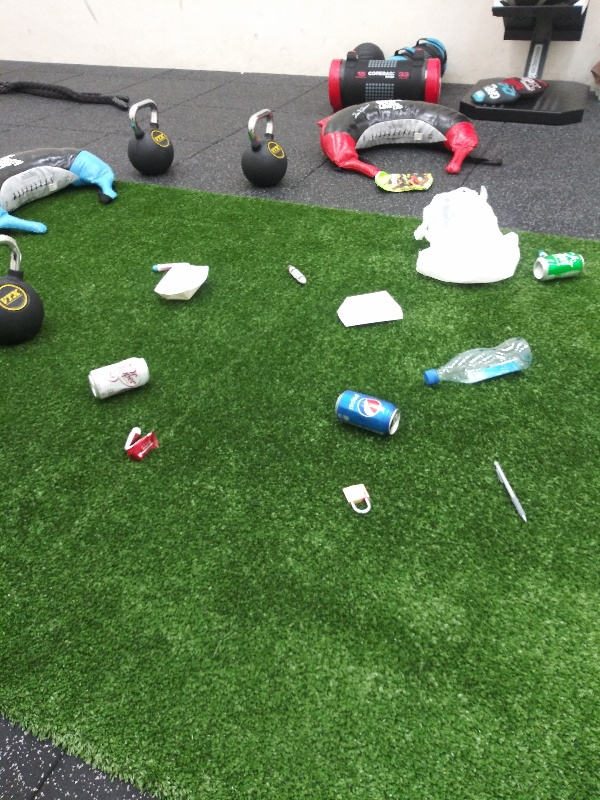bag: (369, 163, 440, 193)
bottle: (417, 334, 537, 388)
can: (328, 386, 403, 439), (85, 352, 157, 406), (529, 245, 587, 287)
plate: (149, 258, 214, 306), (336, 286, 406, 330)
